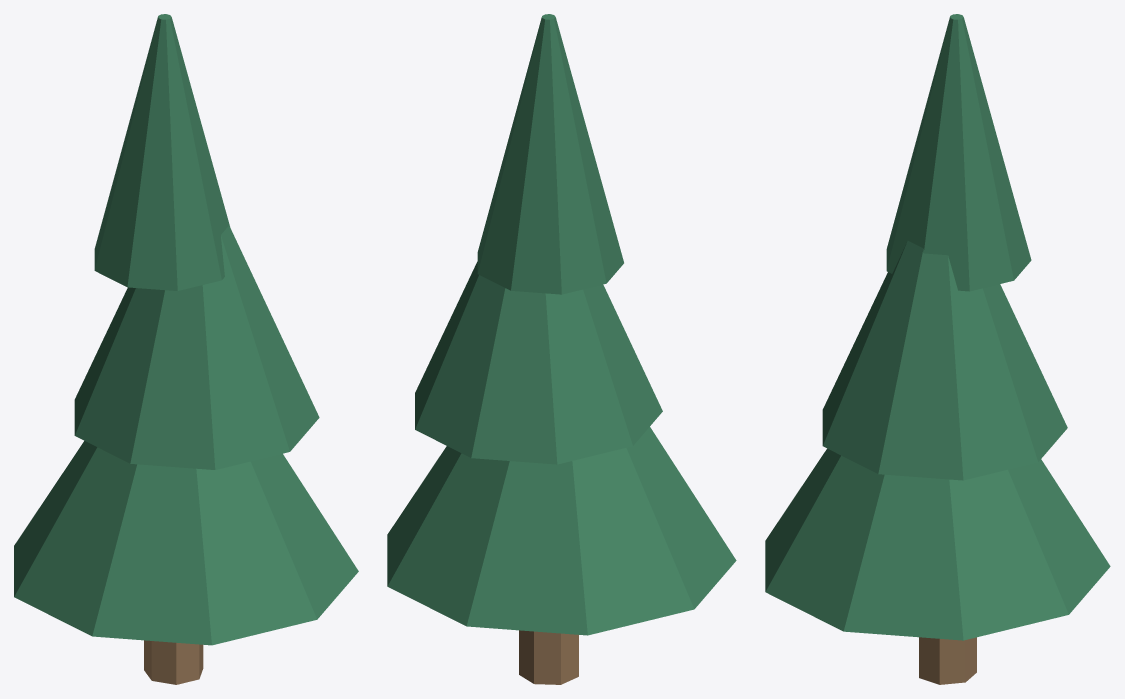
File: conifer_03.glb
The picture shows the model from 3 angles, left to right: view 1: azimuth 30°, elevation 25°; view 2: azimuth 150°, elevation 25°; view 3: azimuth 270°, elevation 25°; orthographic projection.
Visible parts, largest first — view 1: conifer_03_needles_1, conifer_03_needles_2, conifer_03_needles_3, conifer_03_trunk; view 2: conifer_03_needles_1, conifer_03_needles_2, conifer_03_needles_3, conifer_03_trunk; view 3: conifer_03_needles_1, conifer_03_needles_2, conifer_03_needles_3, conifer_03_trunk.
Boxes of the visible parts, <box> form: conifer_03_needles_1: <box>14,441,358,645</box>; conifer_03_needles_2: <box>74,225,319,469</box>; conifer_03_needles_3: <box>94,14,229,290</box>; conifer_03_trunk: <box>144,640,203,684</box>; conifer_03_needles_1: <box>387,427,736,635</box>; conifer_03_needles_2: <box>415,261,662,464</box>; conifer_03_needles_3: <box>477,14,623,294</box>; conifer_03_trunk: <box>519,630,578,684</box>; conifer_03_needles_1: <box>765,448,1110,640</box>; conifer_03_needles_2: <box>822,241,1067,480</box>; conifer_03_needles_3: <box>886,14,1031,291</box>; conifer_03_trunk: <box>919,637,976,684</box>.
Bounding box in the file's own units: 2.52 × 5.18 × 2.48.
